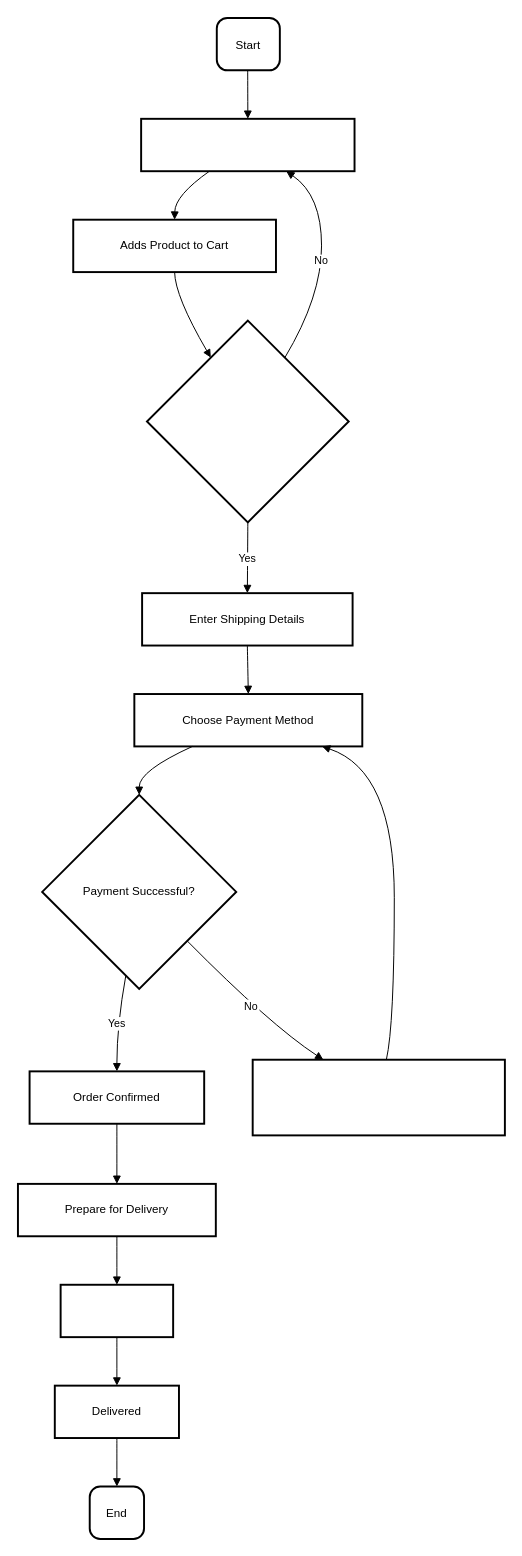
Image size: 522x1556. Some labels were removed from this diagram. The shapes that lost their labels are listed below. From the top down, each one's centre as x and y in pixels, then its label:
the point at 247,144: User Browses Products
the point at 247,421: Proceed to Checkout?
the point at 378,1097: Show Payment Failure Message
the point at 116,1310: Shipped
